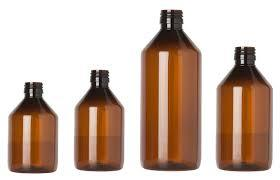Container for household chemicals: (140, 7, 204, 172), (214, 38, 274, 178), (73, 53, 129, 180), (4, 71, 64, 178)
